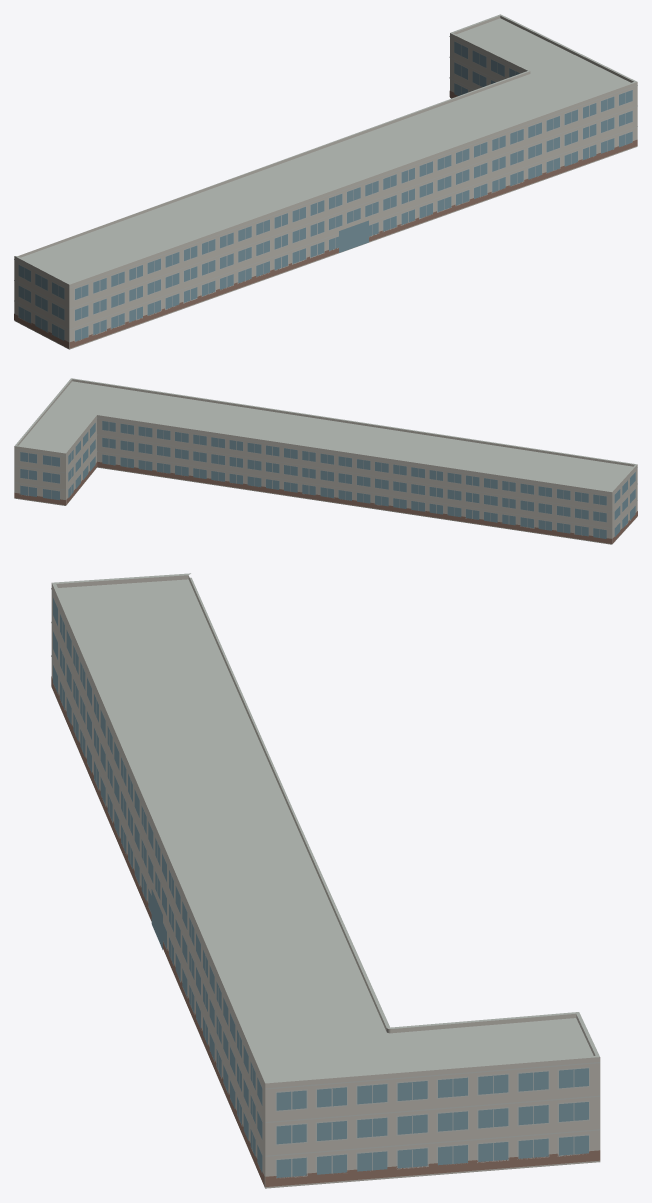
The model's file is public-17f468a6-9196-4eb2-98aa-384ae256117a.glb.
The picture shows the model from 3 angles, top to bottom: view 1: azimuth 30°, elevation 25°; view 2: azimuth 150°, elevation 25°; view 3: azimuth 270°, elevation 25°; orthographic projection. The views are drawn at different scales.
Parts seen in each view (by area): view 1: public-17f468a6-9196-4eb2-98aa-384ae256117a; view 2: public-17f468a6-9196-4eb2-98aa-384ae256117a; view 3: public-17f468a6-9196-4eb2-98aa-384ae256117a.
Boxes of the visible parts, left/top/right/bottom form: public-17f468a6-9196-4eb2-98aa-384ae256117a: left=14, top=14, right=637, bottom=349; public-17f468a6-9196-4eb2-98aa-384ae256117a: left=14, top=378, right=637, bottom=544; public-17f468a6-9196-4eb2-98aa-384ae256117a: left=51, top=573, right=600, bottom=1188.
Bounding box in the file's own units: 95.36 × 9.15 × 43.4.
